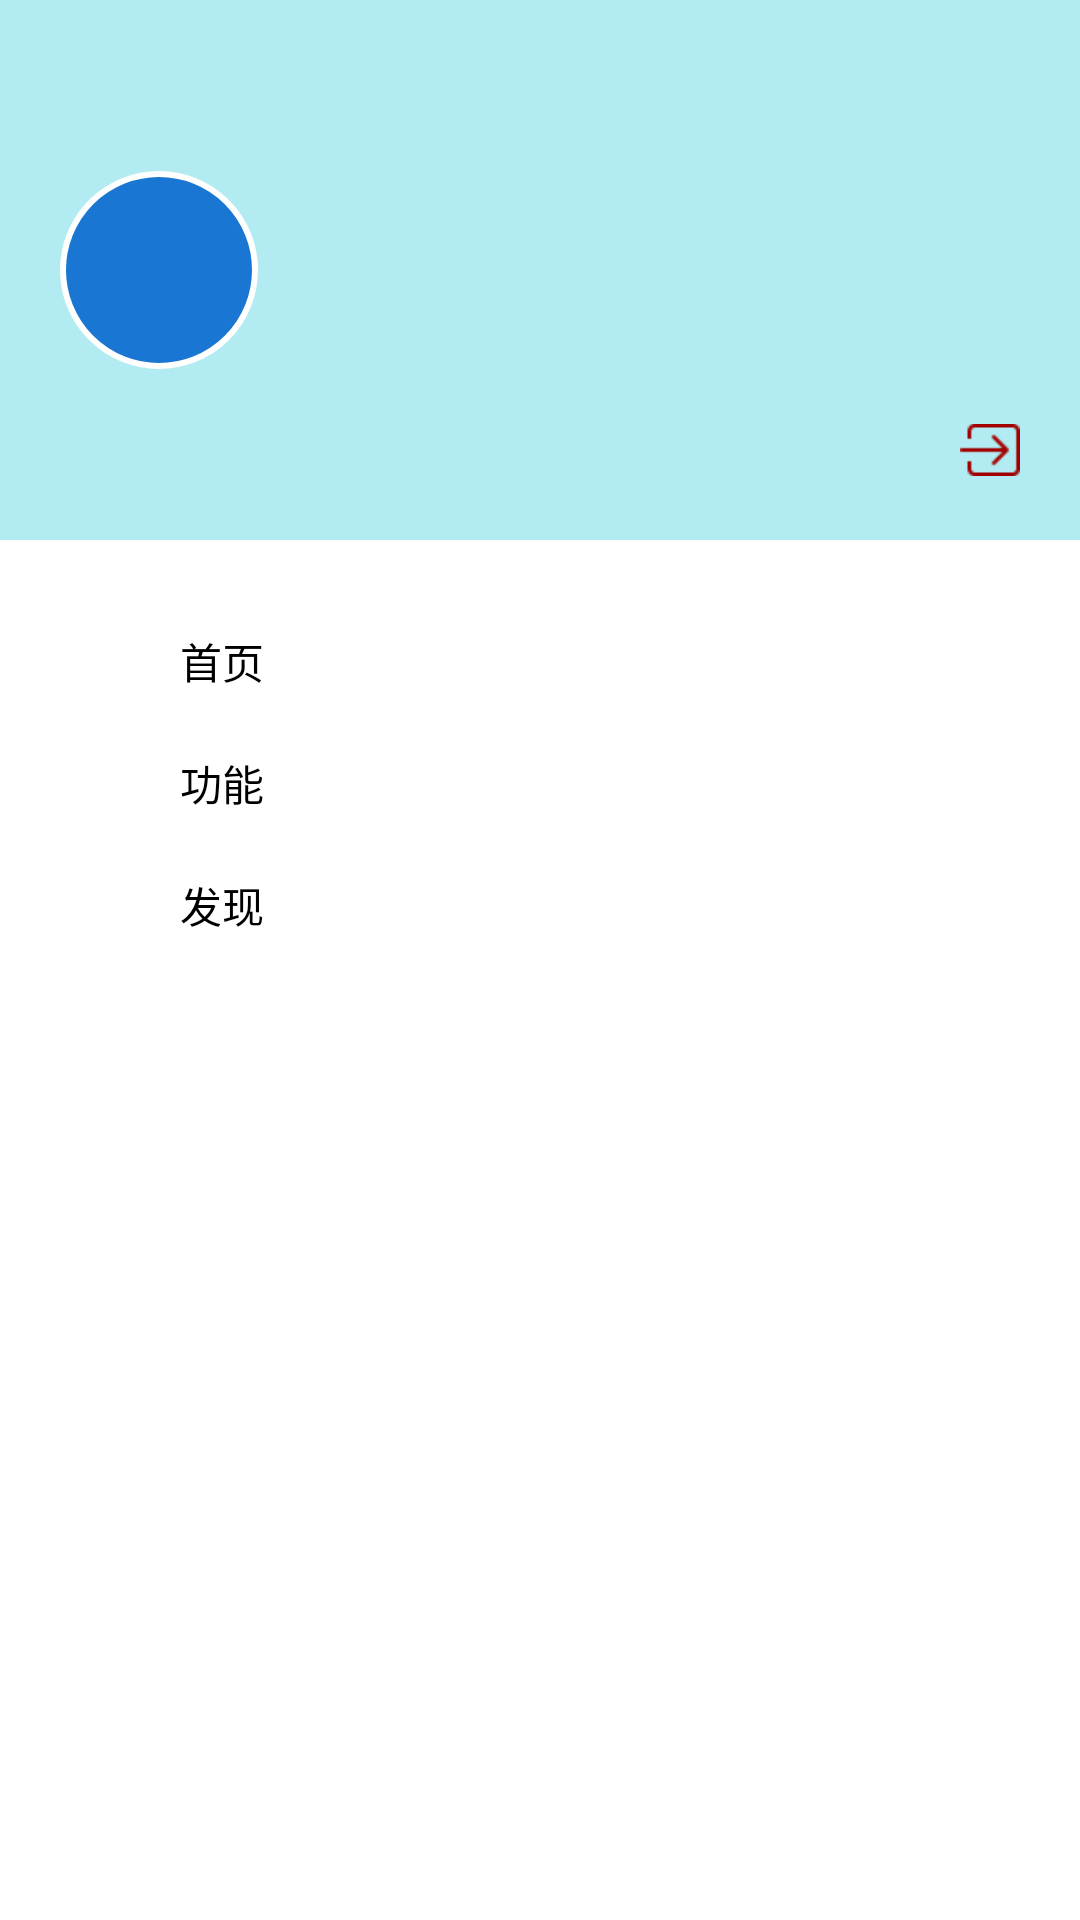

Named icons in this screenshot (1080 x 1920) and their bounding boxes, rect(x1, y1, x2, y2):
exit: rect(960, 424, 1020, 476)
